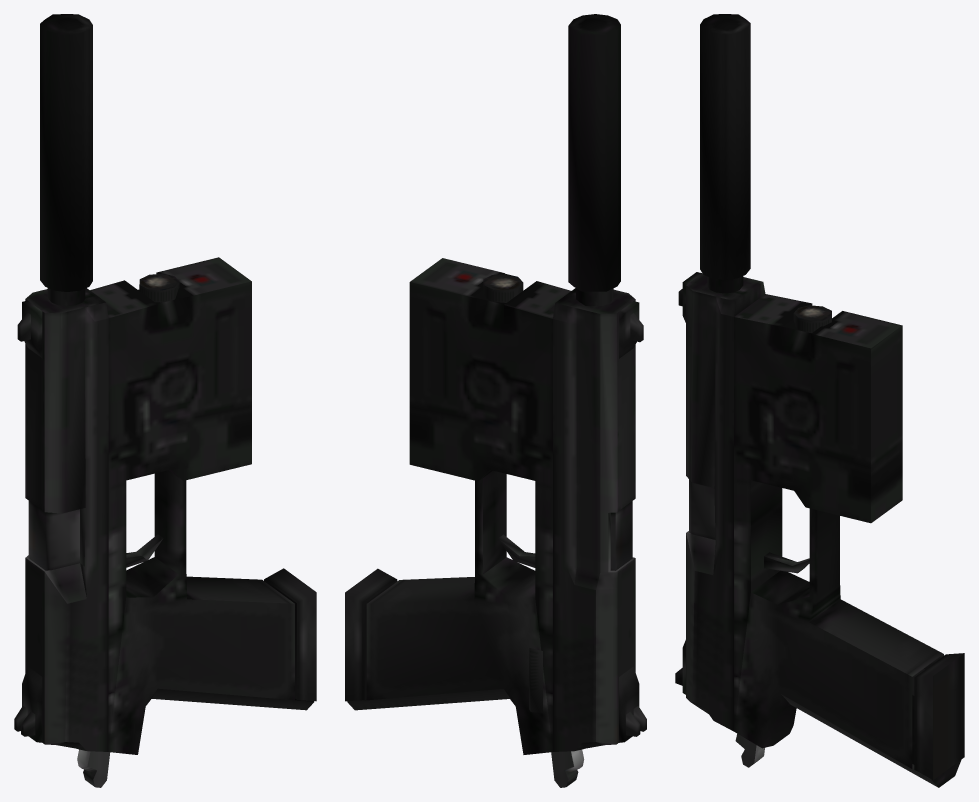
The model's file is Socom.obj.
The picture shows the model from 3 angles, left to right: view 1: azimuth 30°, elevation 25°; view 2: azimuth 150°, elevation 25°; view 3: azimuth 330°, elevation 25°; orthographic projection. The views are drawn at different scales.
Parts seen in each view (by area): view 1: Model001_5_09-Default; view 2: Model001_5_09-Default; view 3: Model001_5_09-Default.
Part boxes in pixels (x1,y1,x2,y2): Model001_5_09-Default: (14,14,316,787); Model001_5_09-Default: (345,14,646,787); Model001_5_09-Default: (675,14,964,787).
Size of the model in its own units: 0.748 by 1.95 by 0.1726.
